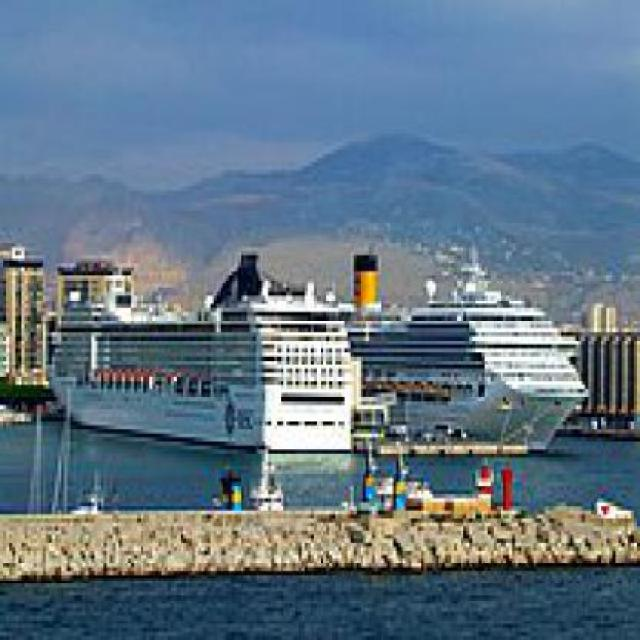cruise: (44, 281, 367, 467), (330, 244, 596, 467)
